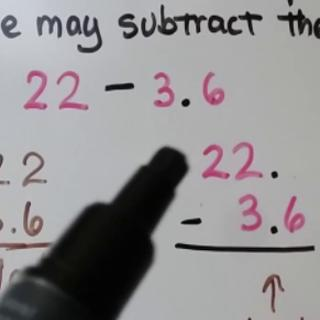.: (267, 166, 282, 183), (178, 95, 192, 112), (267, 223, 281, 238)
2: (56, 71, 88, 111), (233, 142, 263, 179), (23, 69, 49, 111), (201, 142, 227, 180), (21, 150, 47, 186)
3: (238, 193, 263, 233), (153, 70, 174, 110)
6: (20, 199, 45, 236), (203, 72, 225, 106), (285, 196, 305, 233)
